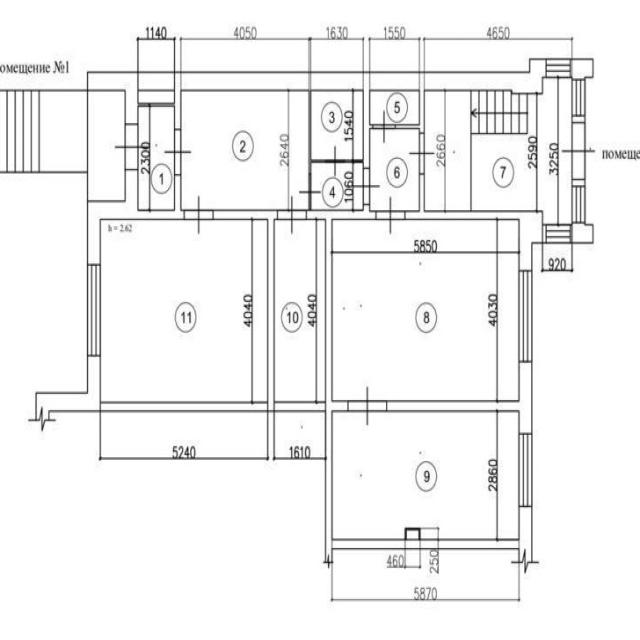Bathrooms: (311, 92, 363, 159), (371, 91, 418, 123)
Corridors: (182, 91, 307, 208), (425, 93, 470, 211), (537, 79, 571, 224), (370, 130, 418, 209), (89, 92, 124, 199), (138, 106, 173, 210), (313, 164, 362, 208), (139, 91, 173, 101)
Doors: (562, 122, 596, 180), (113, 124, 150, 169), (348, 386, 387, 427), (163, 128, 193, 176), (183, 193, 214, 236), (277, 194, 307, 237), (376, 196, 406, 235), (408, 132, 435, 175), (350, 168, 380, 205), (298, 173, 322, 210), (321, 144, 347, 178), (372, 107, 395, 145)
LBwalls: (86, 58, 546, 125), (26, 356, 101, 435), (86, 169, 139, 265), (511, 507, 541, 581), (519, 209, 543, 271), (519, 363, 533, 435), (570, 222, 593, 244), (571, 58, 593, 79), (405, 528, 421, 540), (572, 115, 585, 123), (572, 178, 585, 186), (543, 224, 547, 241)
Offices: (332, 221, 519, 400), (102, 221, 266, 401), (333, 411, 518, 538), (276, 221, 325, 400)
Stairs: (471, 91, 537, 210), (0, 88, 88, 173)
Walls: (100, 203, 520, 570), (405, 175, 520, 221), (138, 175, 185, 220), (347, 91, 373, 169), (138, 91, 181, 130), (387, 401, 519, 411), (395, 91, 425, 134), (309, 91, 322, 175)
Windows: (87, 263, 101, 357), (518, 270, 532, 363), (518, 432, 533, 508), (545, 58, 572, 79), (571, 79, 586, 115), (571, 185, 585, 223), (546, 225, 573, 241)
